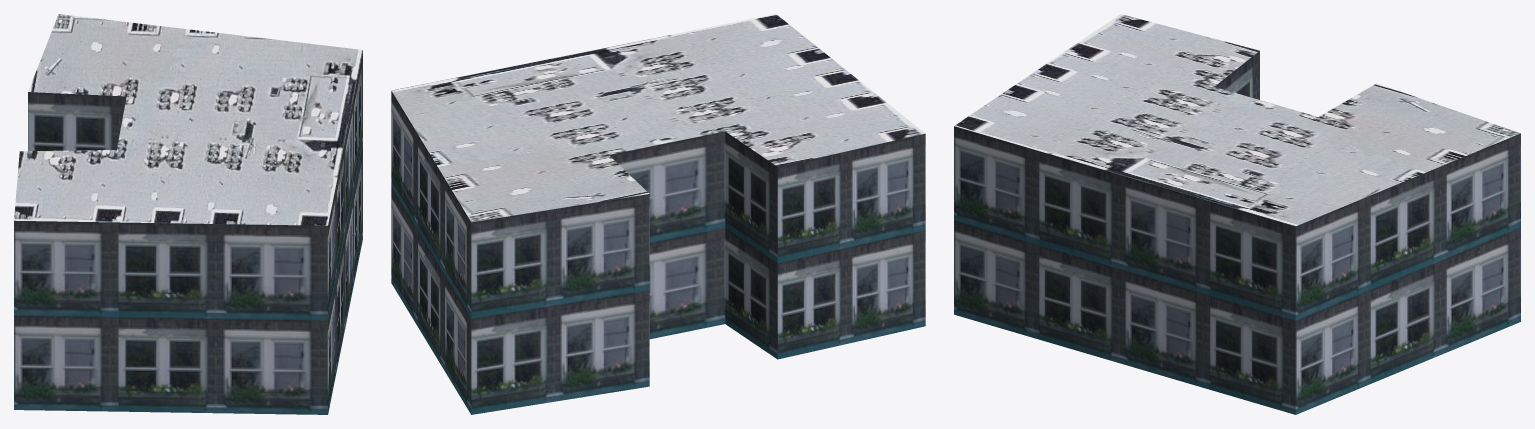
The model's file is ResTex__3638.fbx.
3 renders of one model, left to right at view 1: azimuth 30°, elevation 25°; view 2: azimuth 150°, elevation 25°; view 3: azimuth 270°, elevation 25°, orthographic. The views are drawn at different scales.
Parts seen in each view (by area): view 1: CityEngineMaterial_11_m, CityEngineMaterial_m; view 2: CityEngineMaterial_11_m, CityEngineMaterial_m; view 3: CityEngineMaterial_11_m, CityEngineMaterial_m.
Boxes of the visible parts, x1,y1,x2,y2 form: CityEngineMaterial_11_m: (14,51,362,414); CityEngineMaterial_m: (14,14,362,225); CityEngineMaterial_11_m: (391,91,925,414); CityEngineMaterial_m: (391,14,924,222); CityEngineMaterial_11_m: (954,51,1520,414); CityEngineMaterial_m: (954,14,1520,226).
Bounding box in the file's own units: 14.5 × 6 × 16.35.
2 materials, 2 textured.
